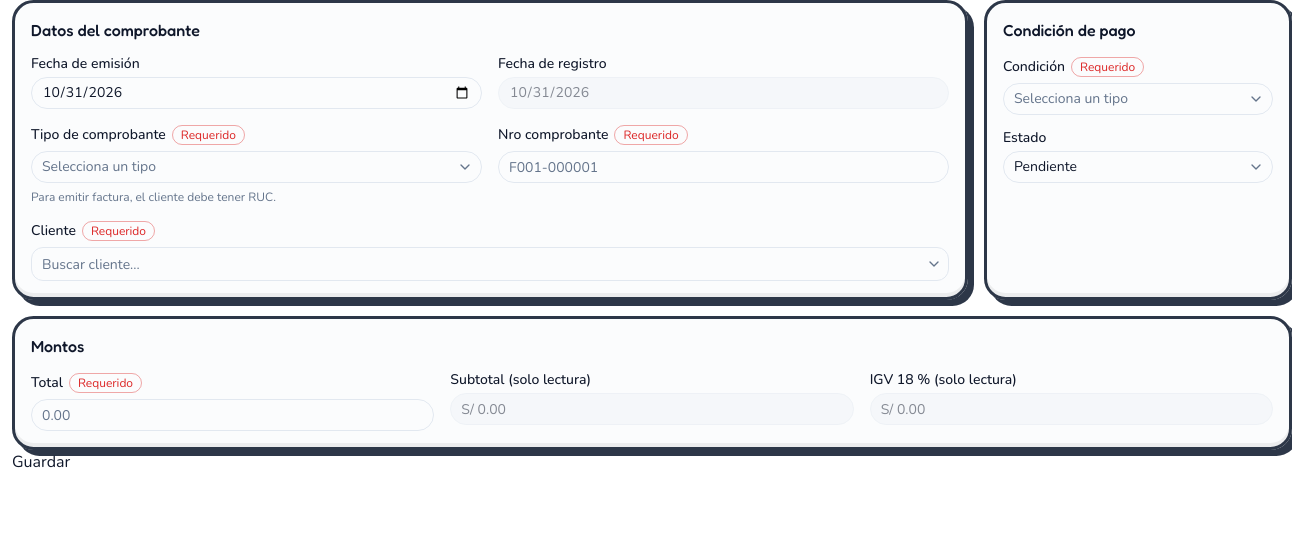
VoucherForm — venta: tipo de comprobante según el documento › precarga Boleta y bloquea Factura cuando el cliente no tiene RUC
The width and height of the screenshot is (1292, 543).
Click the dropdown with placeholder "Buscar cliente...".
click(476, 264)  # box [32, 248, 920, 280]
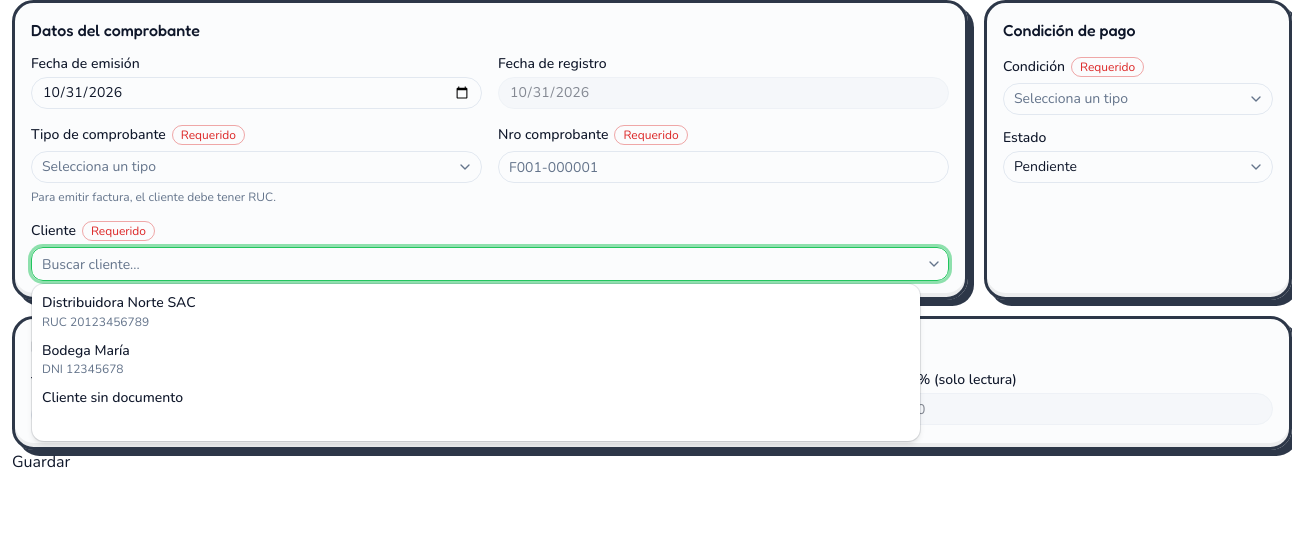
Click the text "Bodega María".
click(86, 350)  # box [42, 340, 130, 360]
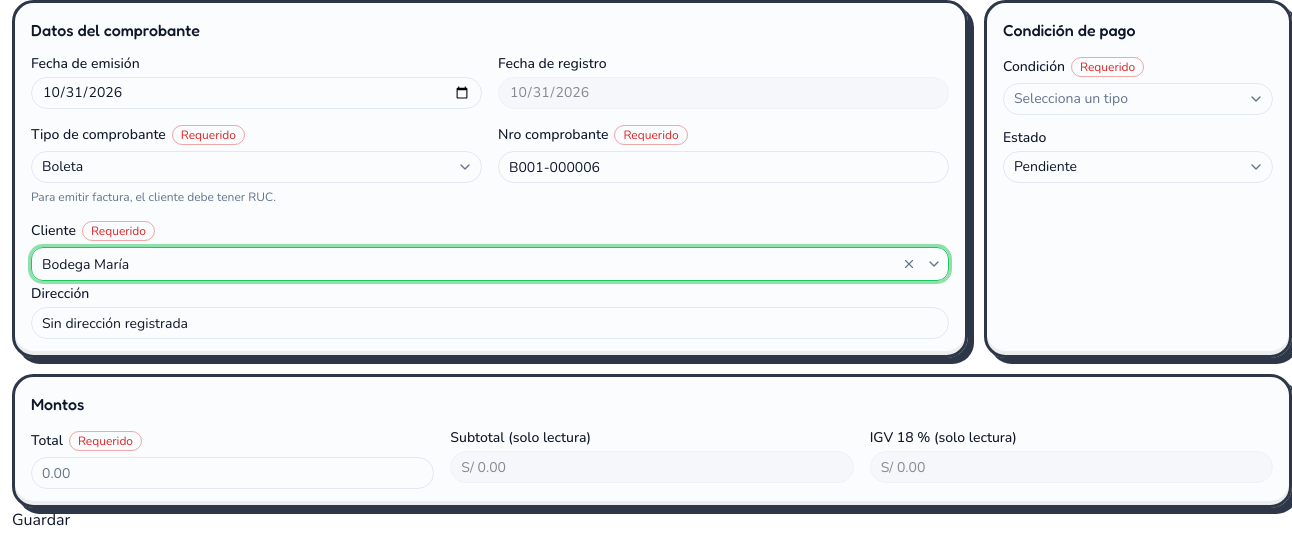
Expected: the text "Para emitir factura, el cliente debe tener RUC." is shown, [31, 189, 276, 205]
Expected: the text "Boleta" is shown, [42, 157, 83, 176]
